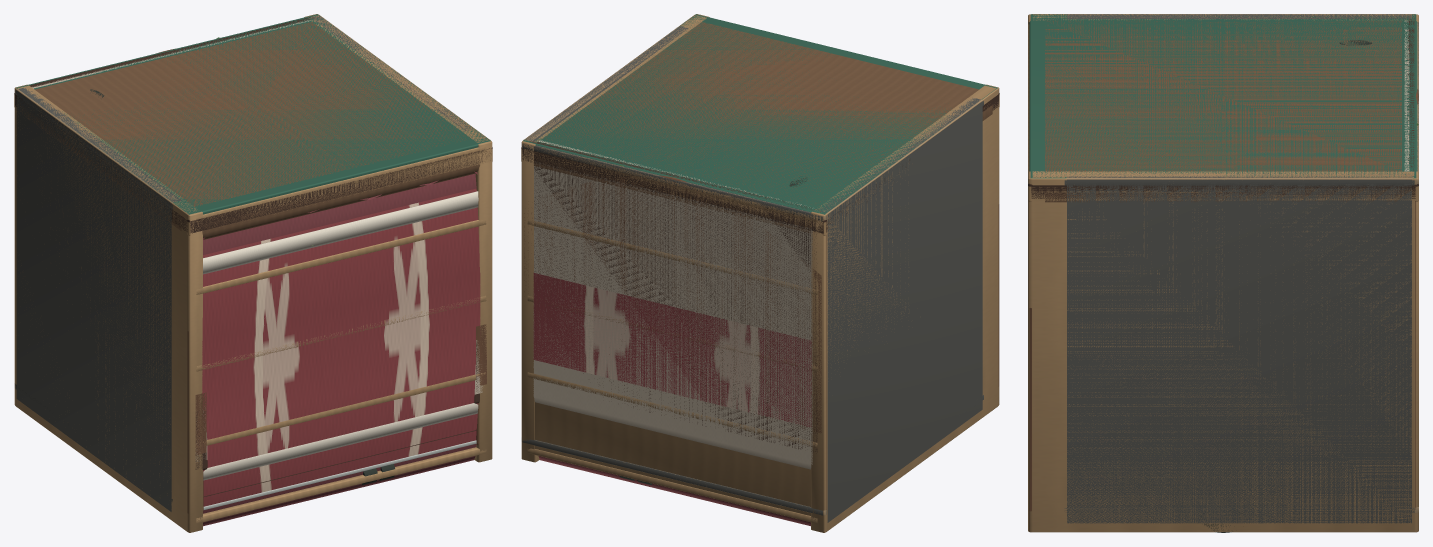
Rendered from furniture-realistic.glb.
The picture shows the model from 3 angles, left to right: view 1: azimuth 30°, elevation 25°; view 2: azimuth 150°, elevation 25°; view 3: azimuth 270°, elevation 25°; orthographic projection. The views are drawn at different scales.
Visible parts, largest first — view 1: Floor mattress padding, Wardrobe side panel, Stool rounded seat, Desk work surface, Oak shelf side, Oak shelf side.001, Floor mattress sewn edge.001, Desk timber edge core, Floor mattress sewn edge, Oak shelf board, Desk timber edge core.001, Oak shelf board.003 (+10 smaller); view 2: Padded headboard surround, Wardrobe side panel, Desk work surface, Stool rounded seat, Floor mattress padding, Oak shelf side, Shelf back panel, Wide walnut headboard, Curved timber headboard, Oak shelf side.001, Desk timber edge core, Oak shelf board (+9 smaller); view 3: Wardrobe side panel.001, Desk work surface, Stool rounded seat, Oak shelf side.001, Desk timber edge core, Wardrobe horizontal panel.001, Desk timber edge core.001, Wardrobe side panel, Wardrobe side panel.003, Oak shelf side, Wide walnut headboard, Padded headboard surround (+2 smaller).
Part boxes in pixels (left/top/right/bottom): Floor mattress padding: left=202, top=173, right=480, bottom=526; Wardrobe side panel: left=16, top=87, right=181, bottom=511; Stool rounded seat: left=21, top=22, right=479, bottom=239; Desk work surface: left=16, top=14, right=490, bottom=214; Oak shelf side: left=14, top=84, right=202, bottom=532; Oak shelf side.001: left=304, top=14, right=492, bottom=462; Floor mattress sewn edge.001: left=203, top=191, right=478, bottom=274; Desk timber edge core: left=14, top=93, right=492, bottom=233; Floor mattress sewn edge: left=203, top=403, right=478, bottom=480; Oak shelf board: left=196, top=447, right=486, bottom=523; Desk timber edge core.001: left=14, top=94, right=492, bottom=235; Oak shelf board.003: left=196, top=219, right=486, bottom=294; Padded headboard surround: left=533, top=140, right=812, bottom=469; Wardrobe side panel: left=819, top=98, right=982, bottom=522; Desk work surface: left=523, top=14, right=997, bottom=214; Stool rounded seat: left=533, top=22, right=992, bottom=233; Floor mattress padding: left=533, top=273, right=811, bottom=526; Oak shelf side: left=811, top=84, right=999, bottom=532; Shelf back panel: left=535, top=402, right=810, bottom=515; Wide walnut headboard: left=530, top=141, right=820, bottom=453; Curved timber headboard: left=524, top=175, right=821, bottom=433; Oak shelf side.001: left=521, top=14, right=709, bottom=462; Desk timber edge core: left=521, top=92, right=999, bottom=233; Oak shelf board: left=527, top=448, right=817, bottom=523; Wardrobe side panel.001: left=1067, top=173, right=1411, bottom=523; Desk work surface: left=1029, top=14, right=1417, bottom=178; Stool rounded seat: left=1045, top=20, right=1401, bottom=202; Oak shelf side.001: left=1028, top=171, right=1418, bottom=532; Desk timber edge core: left=1028, top=183, right=1418, bottom=198; Wardrobe horizontal panel.001: left=1064, top=22, right=1418, bottom=185; Desk timber edge core.001: left=1028, top=186, right=1418, bottom=201; Wardrobe side panel: left=1067, top=14, right=1411, bottom=18; Wardrobe side panel.003: left=1066, top=174, right=1412, bottom=179; Oak shelf side: left=1028, top=14, right=1418, bottom=24; Wide walnut headboard: left=1407, top=17, right=1414, bottom=171; Padded headboard surround: left=1404, top=20, right=1409, bottom=171.
Size of the model in its own units: 1 by 1 by 1.
Materials: 45 (19 with a texture image).
